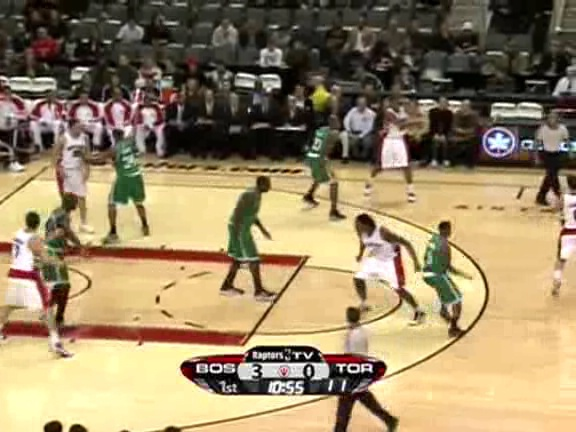person: (416, 229, 450, 310), (415, 229, 449, 310), (417, 229, 451, 310), (416, 228, 450, 309), (416, 230, 450, 311)
target_negative: (91, 128, 415, 186), (84, 411, 340, 431), (502, 377, 566, 422), (276, 317, 343, 343), (556, 81, 567, 117), (179, 397, 188, 399)
